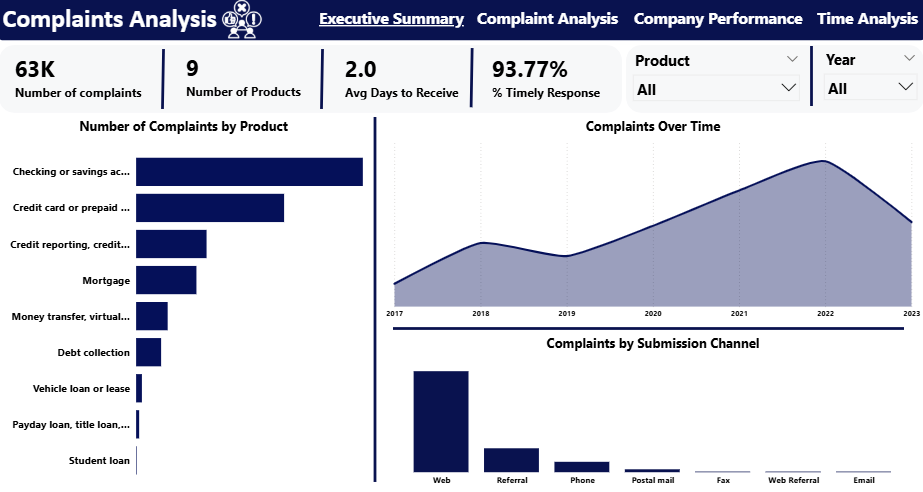

The page's visual inventory and layout, read from the dashboard file:
{"tool":"powerbi","page":{"name":"Executive Summary","canvas":[1336,722],"ordinal":1},"visuals":[{"type":"shape","box":[0,75.1,899.6,98.2],"z":0},{"type":"shape","box":[0,8.8,1335.9,59.9],"z":1000,"group":"g1"},{"type":"cardVisual","title":"j","fields":{"Data":["Measuress.Number of complaints"]},"box":[5.8,76.5,235.4,88.1],"z":1000},{"type":"shape","box":[197.8,80.9,78,86.6],"z":2000},{"type":"cardVisual","fields":{"Data":["Measuress.Number of Products"]},"box":[241.3,70.9,245.8,96.5],"z":3000},{"type":"cardVisual","fields":{"Data":["Measuress.Avg Days to Receive"]},"box":[470.5,67.9,292.5,104.1],"z":4000},{"type":"cardVisual","fields":{"Data":["Measuress.% Timely Response"]},"box":[683.1,68.6,217.1,104.1],"z":5000},{"type":"barChart","title":"Number of Complaints by Product","fields":{"Y":["CountNonNull(Complaints Analysis.Complaint ID)"],"Category":["Complaints Analysis.Product"]},"box":[0,179.1,532.8,542.9],"z":6000},{"type":"lineChart","title":"Complaints Over Time","fields":{"Category":["Complaints Analysis.Received Date.Variation.Date Hierarchy.Year"],"Y":["CountNonNull(Complaints Analysis.Complaint ID)"]},"box":[553.1,179.1,782.6,301.8],"z":7000},{"type":"textbox","box":[0,8.7,326.3,60.6],"z":8000,"group":"g1"},{"type":"columnChart","title":"Complaints by Submission Channel","fields":{"Category":["Complaints Analysis.Submitted via"],"Y":["CountNonNull(Complaints Analysis.Complaint ID)"]},"box":[553.1,492.4,782.6,229.6],"z":8000},{"type":"shape","box":[532.8,179.1,20.2,527.1],"z":9000},{"type":"shape","box":[568.9,476.5,737.9,15.9],"z":10000},{"type":"shape","box":[427.4,80.9,78,86.6],"z":11000},{"type":"shape","box":[643.9,79.9,76.9,86],"z":12000},{"type":"shape","box":[905.4,75.1,430.3,98.2],"z":13000},{"type":"slicer","fields":{"Values":["Complaints Analysis.Received Date.Variation.Date Hierarchy.Year"]},"box":[1181.2,76.5,154.5,86.6],"z":14000},{"type":"slicer","fields":{"Values":["Complaints Analysis.Product"]},"box":[905.4,78,261.4,83.8],"z":15000},{"type":"shape","box":[1166.8,76.1,13,86.6],"z":16000},{"type":"group","id":"g1","title":"Group 1","box":[0,8.7,1335.9,60.6],"z":17000},{"type":"image","box":[303.7,8.8,94.9,58.4],"z":17000,"group":"g1"},{"type":"actionButton","box":[685.9,17.3,209.4,40.4],"z":18000},{"type":"actionButton","title":"Time Analysis","box":[1181.2,20.8,154.5,36.1],"z":18000,"group":"g1"},{"type":"actionButton","box":[916.9,20.2,249.8,40.4],"z":19000},{"type":"actionButton","title":"Company Performance","box":[916.9,20.3,249.8,37.5],"z":19000,"group":"g1"},{"type":"actionButton","box":[916.9,15.9,249.8,40.4],"z":20000},{"type":"actionButton","title":"Complaint Analysis","box":[690.2,20.3,209.4,37.5],"z":20000,"group":"g1"},{"type":"actionButton","box":[1181.2,20.2,148.7,40.4],"z":21000},{"type":"actionButton","title":"Executive Summary","box":[462.1,20.3,220.9,37.5],"z":21000,"group":"g1"}]}

Visuals, with their boxes in screenshot pixels (x1, y1, x2, y2), scaled from the page's 1336x722 canvas onto the 923x492 screenshot:
shape: bbox=[0, 51, 622, 118]
shape: bbox=[0, 6, 922, 47]
"j" cardVisual: bbox=[4, 52, 167, 112]
shape: bbox=[137, 55, 191, 114]
cardVisual - Measuress.Number of Products: bbox=[167, 48, 337, 114]
cardVisual - Measuress.Avg Days to Receive: bbox=[325, 46, 527, 117]
cardVisual - Measuress.% Timely Response: bbox=[472, 47, 622, 118]
"Number of Complaints by Product" barChart: bbox=[0, 122, 368, 491]
"Complaints Over Time" lineChart: bbox=[382, 122, 922, 328]
textbox: bbox=[0, 6, 225, 47]
"Complaints by Submission Channel" columnChart: bbox=[382, 336, 922, 491]
shape: bbox=[368, 122, 382, 481]
shape: bbox=[393, 325, 903, 336]
shape: bbox=[295, 55, 349, 114]
shape: bbox=[445, 54, 498, 113]
shape: bbox=[626, 51, 922, 118]
slicer - Complaints Analysis.Received Date.Variation.Date Hierarchy.Year: bbox=[816, 52, 922, 111]
slicer - Complaints Analysis.Product: bbox=[626, 53, 806, 110]
shape: bbox=[806, 52, 815, 111]
"Group 1" group: bbox=[0, 6, 922, 47]
image: bbox=[210, 6, 275, 46]
actionButton: bbox=[474, 12, 619, 39]
"Time Analysis" actionButton: bbox=[816, 14, 922, 39]
actionButton: bbox=[633, 14, 806, 41]
"Company Performance" actionButton: bbox=[633, 14, 806, 39]
actionButton: bbox=[633, 11, 806, 38]
"Complaint Analysis" actionButton: bbox=[477, 14, 622, 39]
actionButton: bbox=[816, 14, 919, 41]
"Executive Summary" actionButton: bbox=[319, 14, 472, 39]
